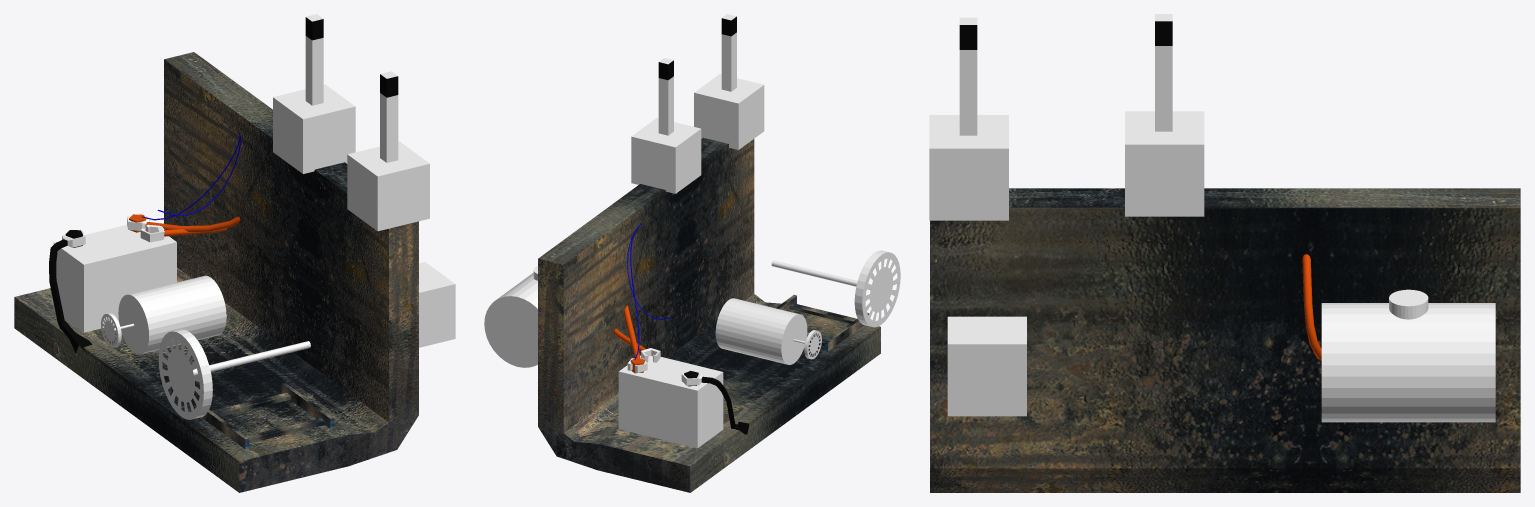
File: generator.glb
3 views of the same model, side by side, from view 1: azimuth 30°, elevation 25°; view 2: azimuth 150°, elevation 25°; view 3: azimuth 270°, elevation 25° (orthographic). The views are drawn at different scales.
Parts seen in each view (by area): view 1: Generator Frame, Ignition Off, Generator, Throttle Mount, Belt Clutch Mount, Engine Pulley, Ignition and Starter On, Radiator Mount, hinge_engine, Belt Clutch, Lever, Ignition On (+1 smaller); view 2: Generator Frame, Ignition and Starter On, Generator, Belt Clutch Mount, Ignition Off, Throttle Mount, Fuel Tank, Engine Pulley, Lever, Belt Clutch, hinge_engine; view 3: Generator Frame, Fuel Tank, Belt Clutch Mount, Throttle Mount, Radiator Mount, Lever, Belt Clutch, Tank Cap, Ignition Off.
Boxes of the visible parts, x1,y1,x2,y2 form: Generator Frame: [14, 52, 418, 492]; Ignition Off: [49, 132, 240, 354]; Generator: [118, 275, 226, 354]; Throttle Mount: [347, 141, 429, 231]; Belt Clutch Mount: [273, 84, 355, 173]; Engine Pulley: [158, 329, 310, 419]; Ignition and Starter On: [53, 132, 240, 353]; Radiator Mount: [419, 262, 455, 347]; hinge_engine: [202, 382, 333, 449]; Belt Clutch: [305, 14, 323, 105]; Lever: [380, 71, 398, 162]; Ignition On: [127, 213, 240, 232]; Generator Frame: [538, 137, 880, 492]; Ignition and Starter On: [618, 223, 738, 447]; Generator: [715, 298, 807, 364]; Belt Clutch Mount: [631, 118, 701, 193]; Ignition Off: [614, 223, 749, 448]; Throttle Mount: [694, 74, 764, 149]; Fuel Tank: [484, 273, 537, 367]; Engine Pulley: [771, 250, 900, 327]; Lever: [721, 14, 736, 91]; Belt Clutch: [658, 58, 673, 135]; hinge_engine: [776, 295, 868, 351]; Generator Frame: [930, 188, 1520, 492]; Fuel Tank: [1321, 303, 1495, 422]; Belt Clutch Mount: [1125, 111, 1204, 216]; Throttle Mount: [929, 115, 1008, 220]; Radiator Mount: [947, 316, 1026, 416]; Lever: [959, 17, 977, 135]; Belt Clutch: [1155, 14, 1172, 131]; Tank Cap: [1389, 289, 1428, 319]; Ignition Off: [1302, 254, 1321, 360].
Size of what is drawn, in the model's own units: 0.9921 by 1.24 by 1.37.
Materials: 9 (1 with a texture image).
